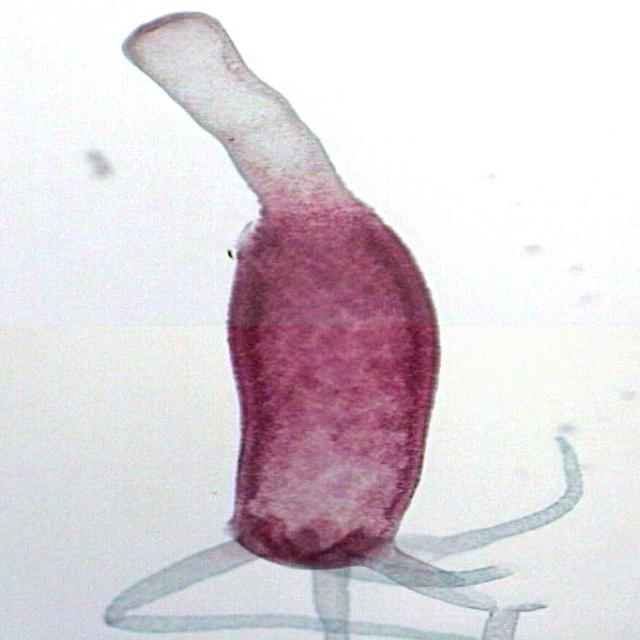Amoeba: (104, 11, 586, 640)
